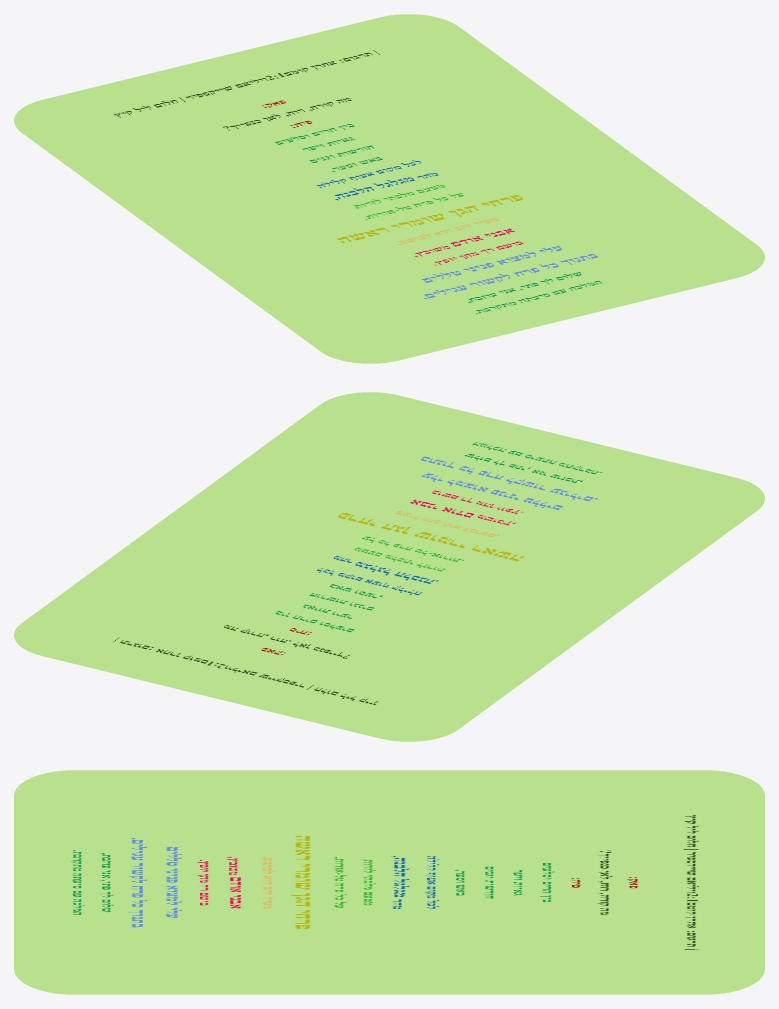
3 views of the same model, one above another, from view 1: azimuth 30°, elevation 25°; view 2: azimuth 150°, elevation 25°; view 3: azimuth 270°, elevation 25° (orthographic). The views are drawn at different scales.
Visible parts, largest first — view 1: Text; view 2: Text; view 3: Text.
Part boxes in pixels (<box>): Text: <box>14,14,764,363</box>; Text: <box>14,392,764,741</box>; Text: <box>14,770,764,994</box>.
Size of the model in its own units: 70.75 by 1.63e-05 by 100.
Materials: 1 (1 with a texture image).
